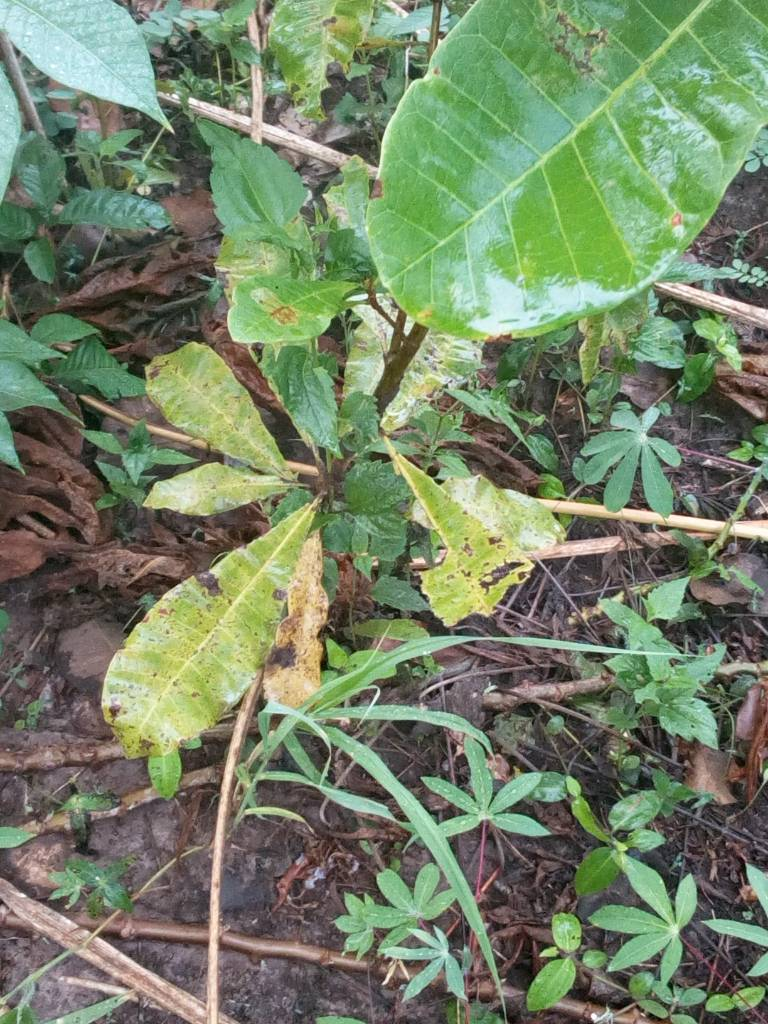Pestalotiose: (107, 500, 318, 758), (149, 355, 305, 483)
